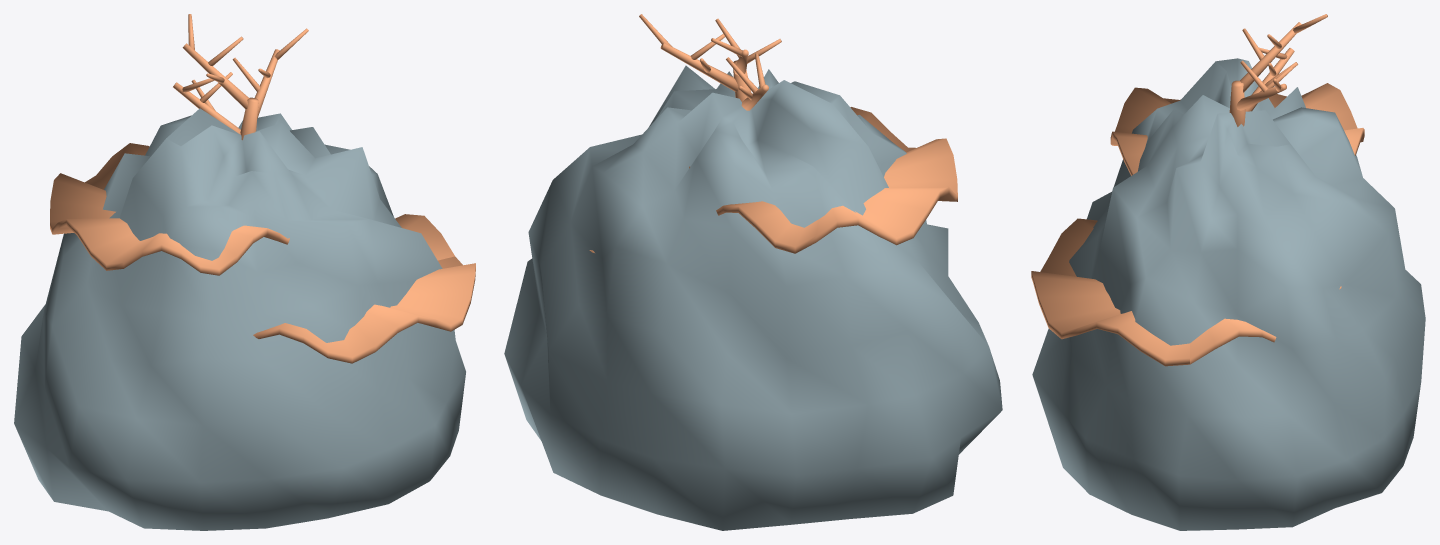
The model's file is underwater-reef-worlds-coral-bommie-large-c2350ffc__7046.glb.
3 views of the same model, side by side, from view 1: azimuth 30°, elevation 25°; view 2: azimuth 150°, elevation 25°; view 3: azimuth 270°, elevation 25° (orthographic). The views are drawn at different scales.
Parts seen in each view (by area): view 1: coral-bommie-large; view 2: coral-bommie-large; view 3: coral-bommie-large.
Part boxes in pixels (box(x1,y1,x2,y2)): coral-bommie-large: box(14, 14, 475, 530); coral-bommie-large: box(504, 14, 1002, 530); coral-bommie-large: box(1031, 14, 1425, 530).
Bounding box in the file's own units: 3.03 × 2.91 × 2.48.
